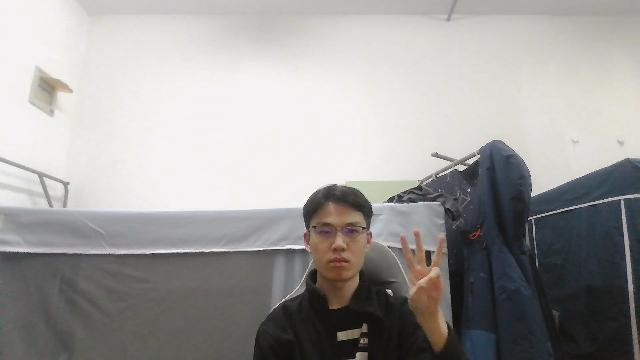three: (396, 226, 451, 330)
